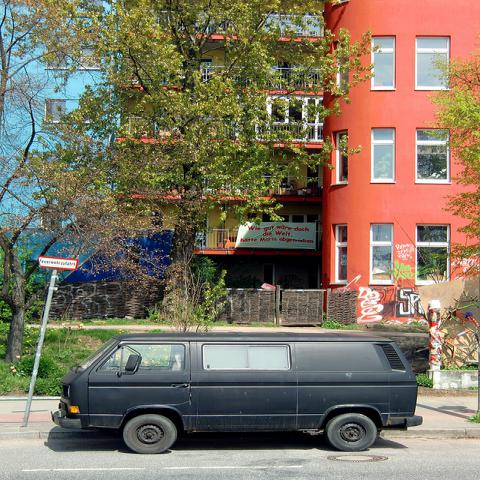car: (50, 333, 422, 455)
